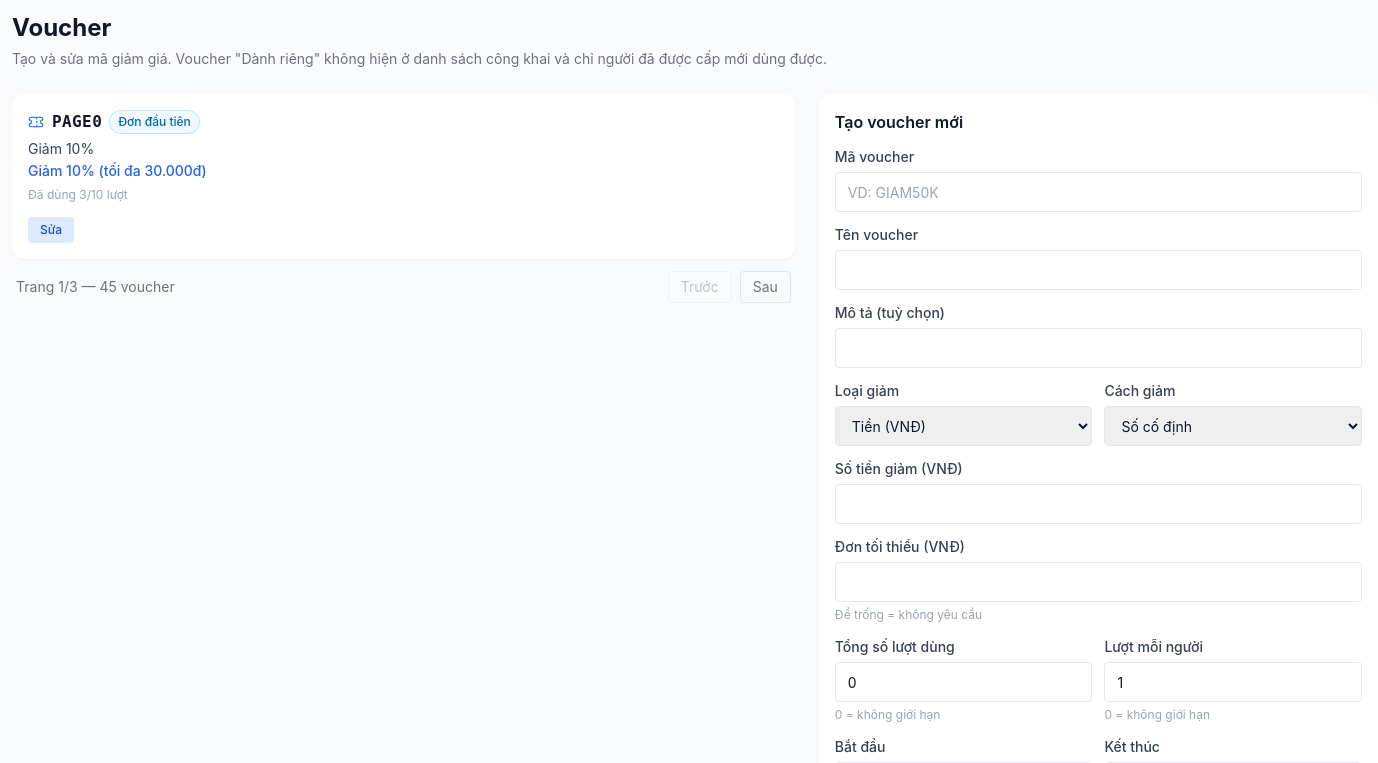
Test case: /admin/vouchers — voucher dành riêng (holders_only) › phân trang: hiện Trang 1/3, bấm Sau gọi backend với offset của trang kế
Expected: the navigation bar with test id "voucher-pagination" shows "Trang 1/3", [12,271,795,303]
Expected: the navigation bar with test id "voucher-pagination" shows "45 voucher", [12,271,795,303]
Click the button "Sau".
click(765, 287)  # box [740,271,791,303]
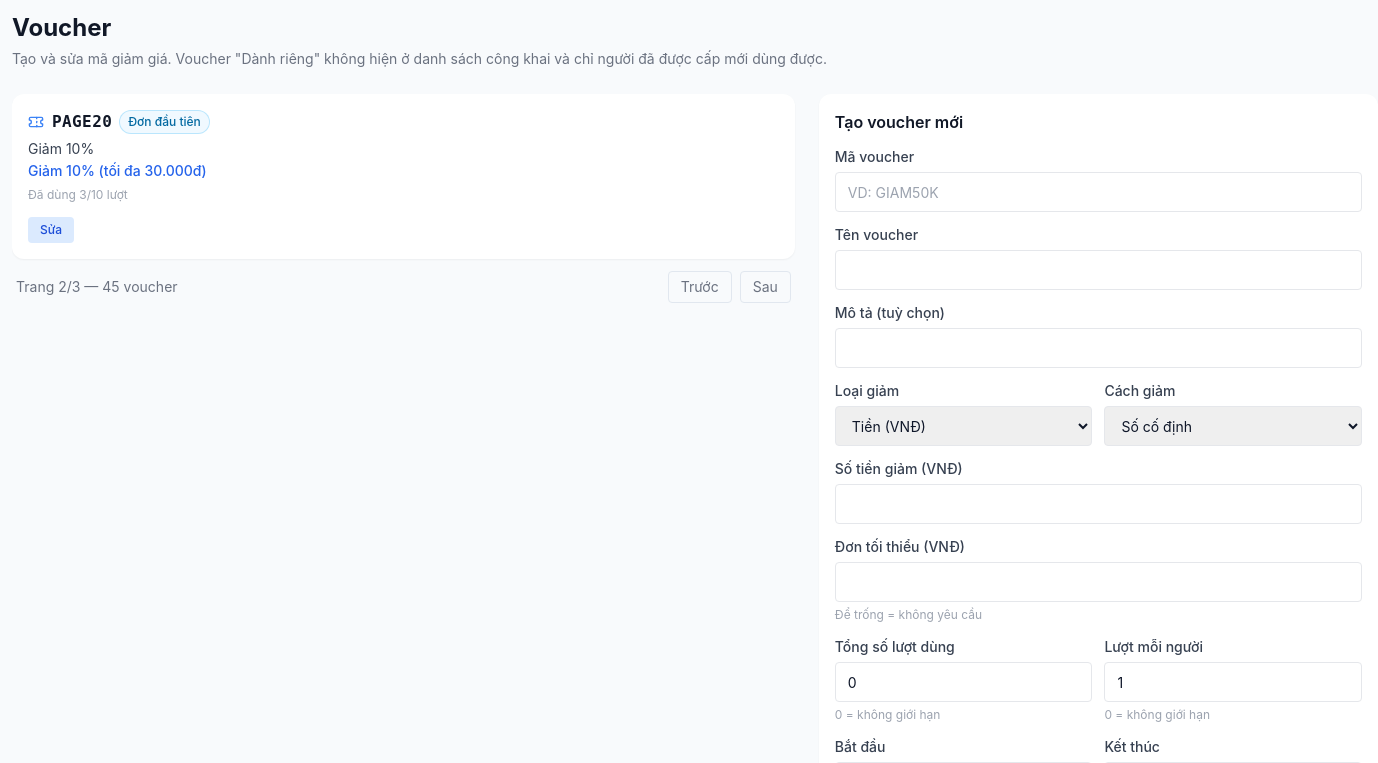
Expected: the navigation bar with test id "voucher-pagination" shows "Trang 2/3", [12,271,795,303]
Expected: the element with test id "admin-voucher-row" shows "PAGE20", [52,112,112,131]
